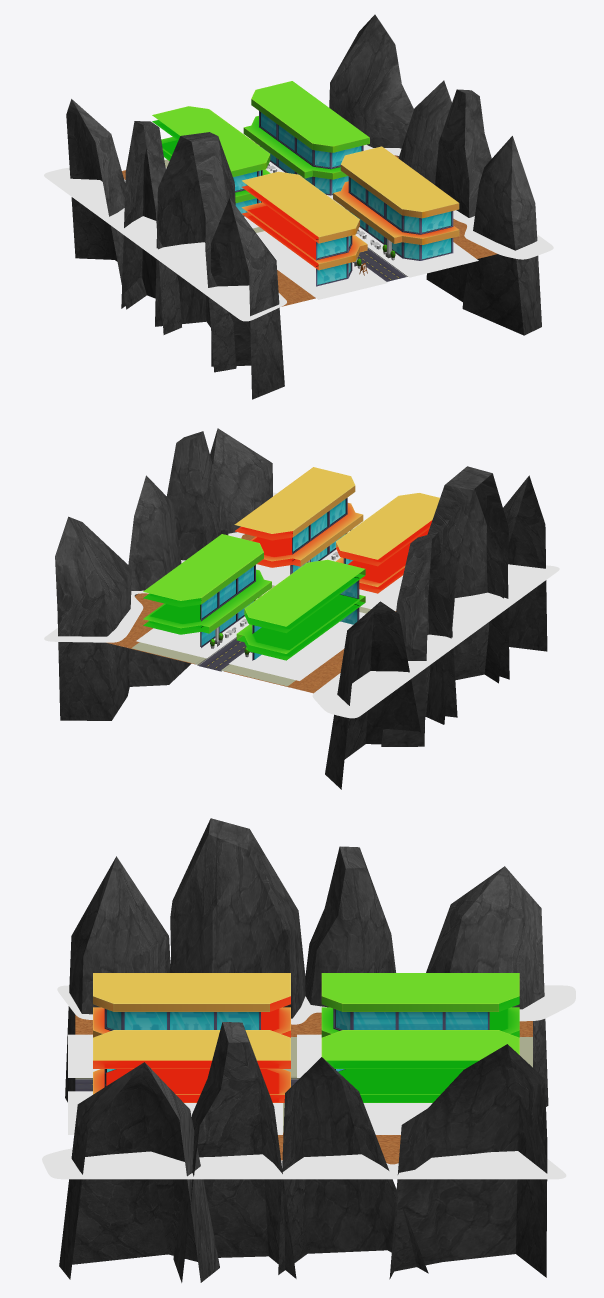
The model's file is Mexico_01.fbx.
The picture shows the model from 3 angles, top to bottom: view 1: azimuth 30°, elevation 25°; view 2: azimuth 150°, elevation 25°; view 3: azimuth 270°, elevation 25°; orthographic projection. The views are drawn at different scales.
Visible parts, largest first — view 1: Mexico_01; view 2: Mexico_01; view 3: Mexico_01.
Boxes of the visible parts, bbox=[...] form: Mexico_01: bbox=[44, 14, 553, 399]; Mexico_01: bbox=[44, 428, 559, 789]; Mexico_01: bbox=[42, 818, 575, 1282].
Bounding box in the file's own units: 22617 × 13384 × 25170.
